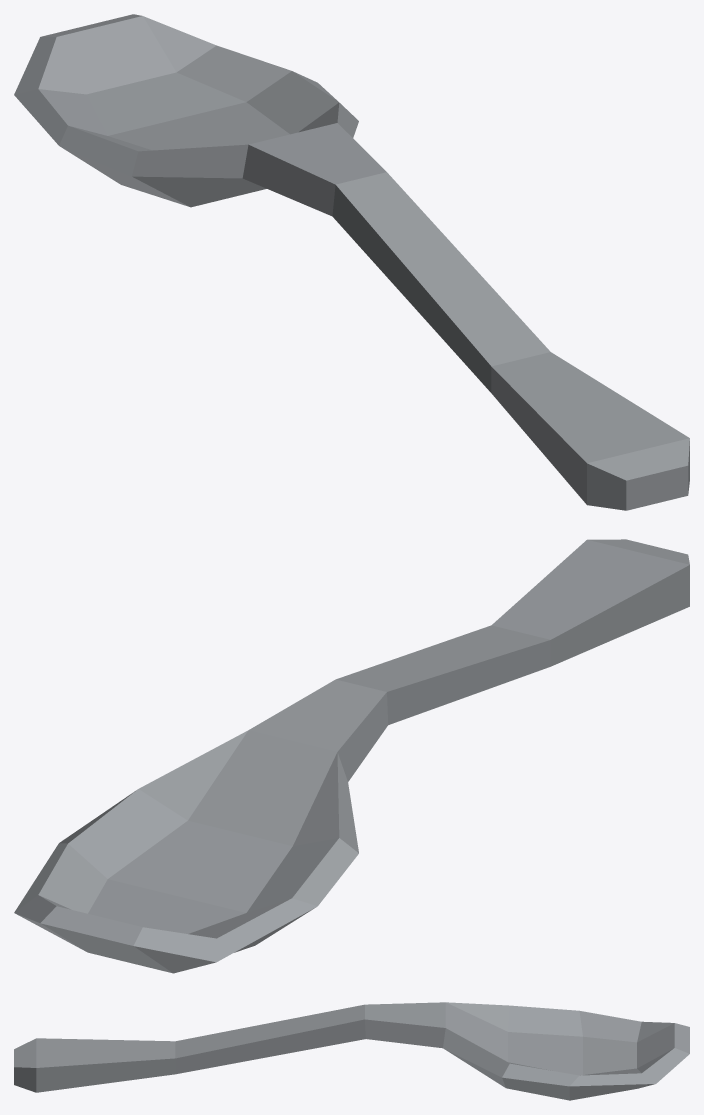
The model's file is spoon.glb.
The picture shows the model from 3 angles, top to bottom: view 1: azimuth 30°, elevation 25°; view 2: azimuth 150°, elevation 25°; view 3: azimuth 270°, elevation 25°; orthographic projection. The views are drawn at different scales.
Parts seen in each view (by area): view 1: SM_Item_Cutlery_Spoon_01; view 2: SM_Item_Cutlery_Spoon_01; view 3: SM_Item_Cutlery_Spoon_01.
Part boxes in pixels (bbox=[...]): SM_Item_Cutlery_Spoon_01: bbox=[14, 14, 689, 510]; SM_Item_Cutlery_Spoon_01: bbox=[14, 539, 689, 973]; SM_Item_Cutlery_Spoon_01: bbox=[14, 1002, 689, 1100].
Bounding box in the file's own units: 0.0867 × 0.0374 × 0.331.
1 material, 1 textured.
